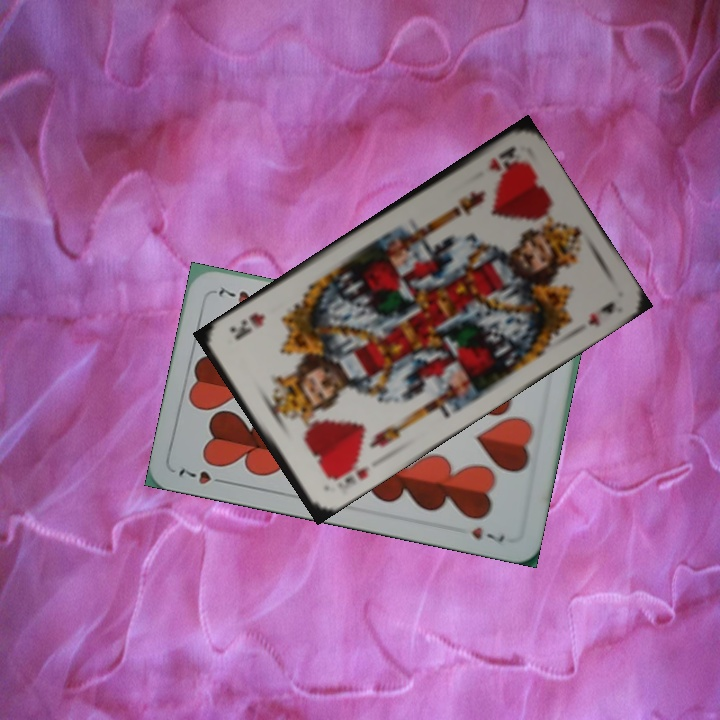H7: (174, 464, 231, 487)
HK: (324, 456, 373, 486), (484, 142, 520, 174)
